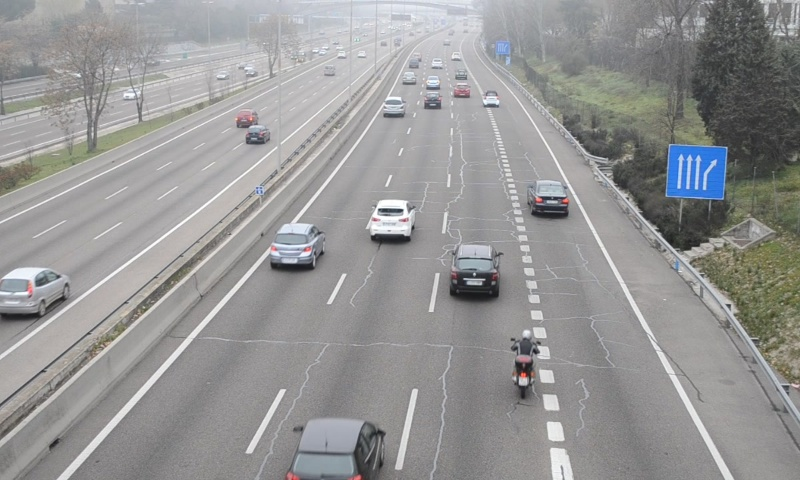car: (286, 420, 384, 480), (449, 244, 500, 296), (270, 222, 324, 268), (369, 198, 416, 238), (528, 179, 569, 215), (382, 95, 404, 116), (481, 89, 500, 107), (423, 90, 441, 109), (454, 81, 472, 98)
motorcycle: (510, 328, 542, 399)
